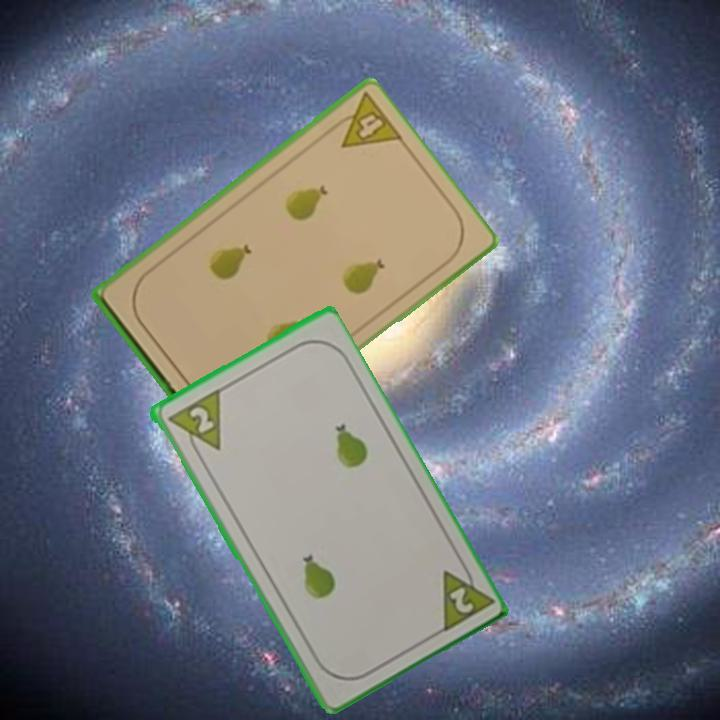2p: (435, 556, 494, 636), (163, 386, 224, 463)
4p: (323, 89, 405, 151)
